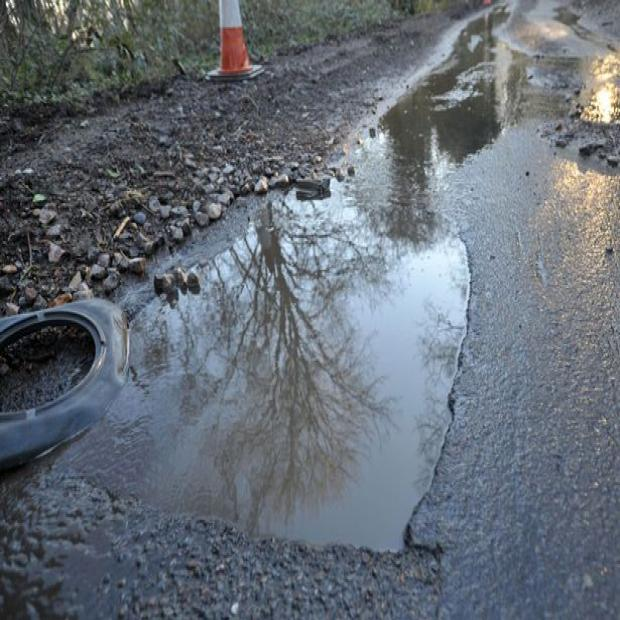lubang: (52, 0, 536, 556)
